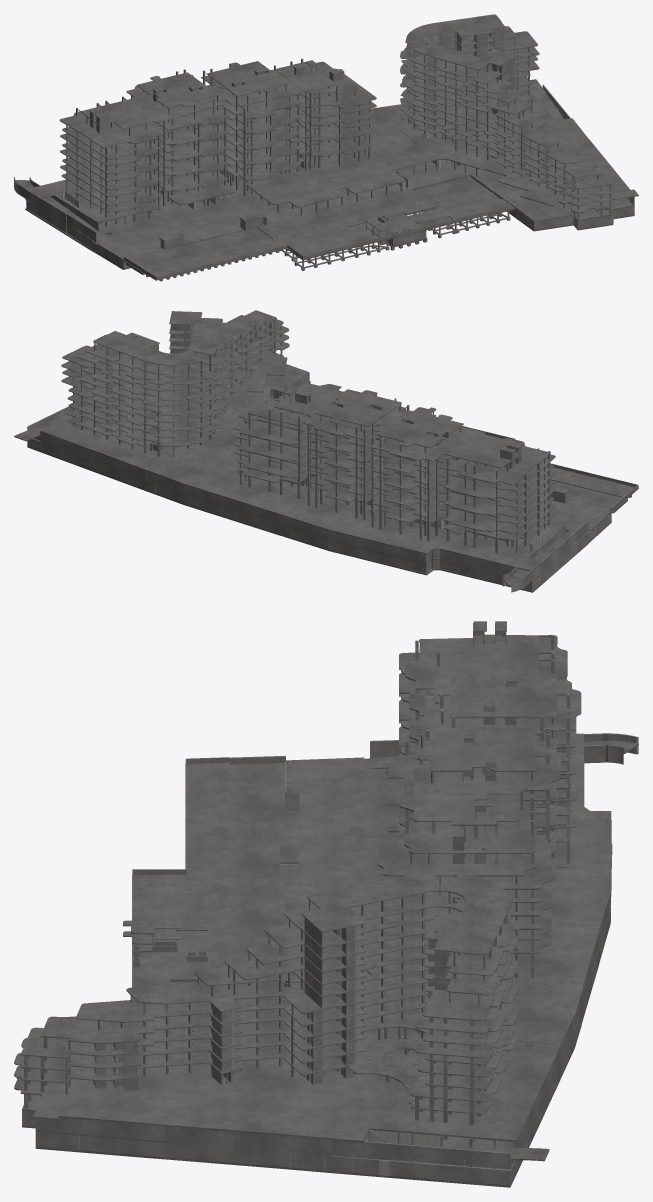
File: Alba.glb
The picture shows the model from 3 angles, top to bottom: view 1: azimuth 30°, elevation 25°; view 2: azimuth 150°, elevation 25°; view 3: azimuth 270°, elevation 25°; orthographic projection. The views are drawn at different scales.
Visible parts, largest first — view 1: Z6B-GF-SL-01, FA-LRF-SL-01, Z7-GF-SL-01, Z13-LG-RT-01, Z3A-LG-SL-01, Z12-LG-RT-01, Z6A-GF-SL-01, Z8-3-GF-SL-01, Z14-LG-RT-01, Z3B-LG-SL-01, T2-L11-SL-01, T3-L11-SL-01 (+68 smaller); view 2: FA-LRF-SL-01, Z1-GF-SL-01, Z7-GF-SL-01, Z5-GF-SL-01, Z4-GF-SL-01, Z8-2-GF-SL-01, T3-L11-SL-01, T2-L11-SL-01, FA-L11-SL-01, Z2-GF-SL-01, T1-L09-SL-01, FA-L10-SL-01 (+67 smaller); view 3: Z8-1-GF-SL-01, FA-LRF-SL-01, Z9-1-GF-SL-01, Z3A-LG-SL-01, Z12-LG-RT-01, T3-L11-SL-01, T2-L11-SL-01, Z8-3-GF-SL-01, Z9-2-GF-SL-01, Z3B-LG-SL-01, FA-L01-SL-01, FA-L09-SL-01 (+45 smaller).
Boxes of the visible parts, x1,y1,x2,y2 form: Z6B-GF-SL-01: [298, 148, 405, 199]; FA-LRF-SL-01: [406, 14, 516, 69]; Z7-GF-SL-01: [362, 104, 436, 169]; Z13-LG-RT-01: [320, 189, 435, 234]; Z3A-LG-SL-01: [97, 219, 203, 260]; Z12-LG-RT-01: [257, 211, 350, 250]; Z6A-GF-SL-01: [246, 172, 333, 207]; Z8-3-GF-SL-01: [424, 126, 587, 174]; Z14-LG-RT-01: [415, 177, 499, 212]; Z3B-LG-SL-01: [175, 202, 268, 240]; T2-L11-SL-01: [136, 72, 218, 107]; T3-L11-SL-01: [206, 61, 288, 96]; FA-LRF-SL-01: [93, 311, 222, 365]; Z1-GF-SL-01: [415, 521, 565, 571]; Z7-GF-SL-01: [148, 441, 243, 493]; Z5-GF-SL-01: [214, 472, 319, 516]; Z4-GF-SL-01: [285, 490, 384, 536]; Z8-2-GF-SL-01: [104, 431, 239, 471]; T3-L11-SL-01: [314, 389, 401, 426]; T2-L11-SL-01: [376, 410, 463, 448]; FA-L11-SL-01: [85, 322, 228, 377]; Z2-GF-SL-01: [355, 515, 451, 551]; T1-L09-SL-01: [446, 438, 550, 484]; FA-L10-SL-01: [76, 325, 229, 384]; Z8-1-GF-SL-01: [329, 1074, 543, 1142]; FA-LRF-SL-01: [301, 872, 510, 955]; Z9-1-GF-SL-01: [138, 1061, 292, 1134]; Z3A-LG-SL-01: [285, 757, 385, 827]; Z12-LG-RT-01: [177, 873, 285, 925]; T3-L11-SL-01: [417, 727, 550, 771]; T2-L11-SL-01: [437, 673, 571, 717]; Z8-3-GF-SL-01: [245, 1029, 376, 1139]; Z9-2-GF-SL-01: [14, 1077, 159, 1124]; Z3B-LG-SL-01: [285, 828, 385, 883]; FA-L01-SL-01: [267, 1038, 512, 1114]; FA-L09-SL-01: [267, 920, 517, 1021].
Bounding box in the file's own units: 292 × 62.58 × 183.
Materials: 3 (3 with a texture image).
